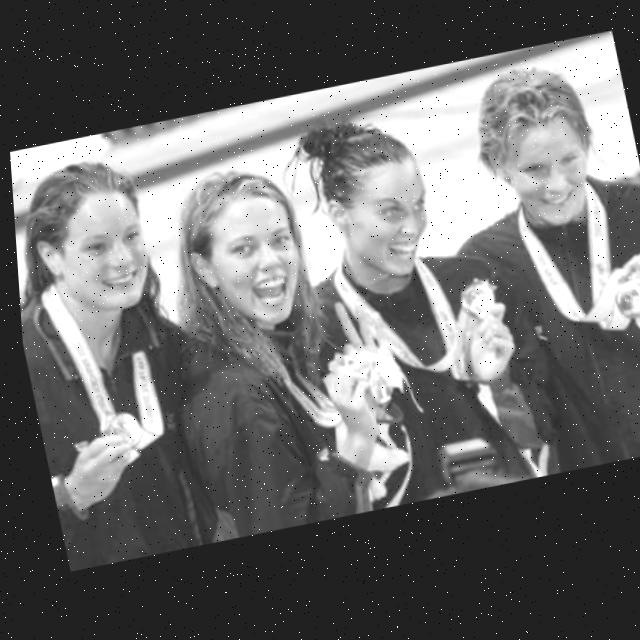face: (17, 170, 162, 331), (177, 181, 309, 343), (314, 149, 447, 293), (480, 112, 603, 241)
